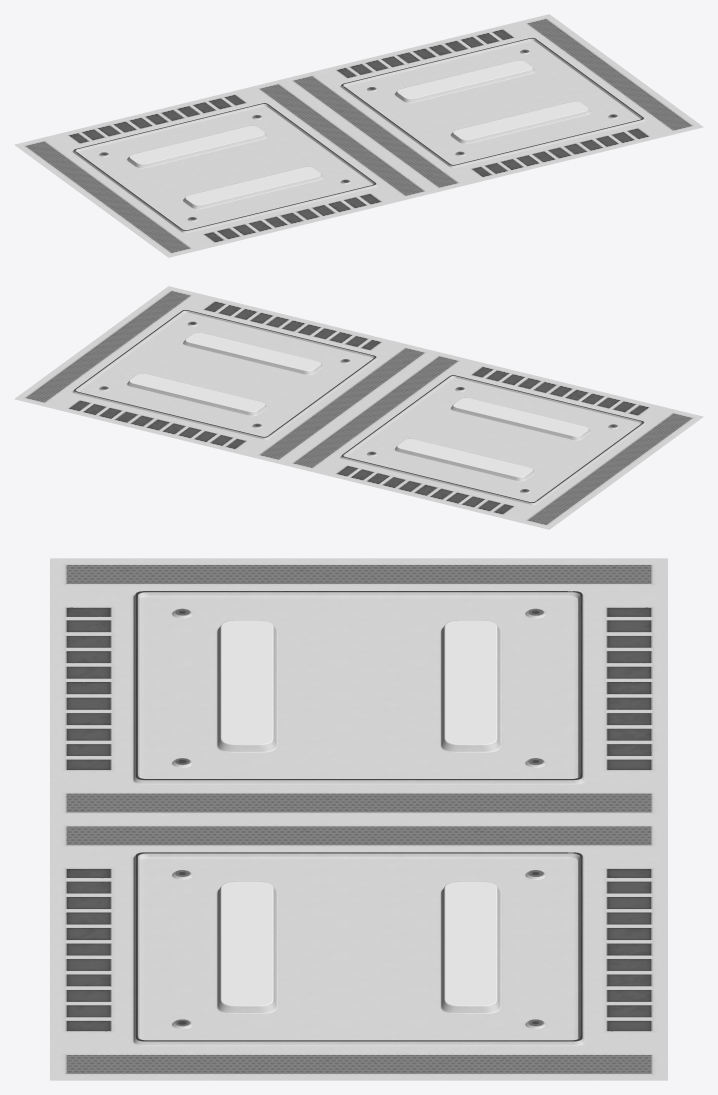
Rendered from SM_MCeiling03-2-350x700-1.FBX.
3 views of the same model, one above another, from view 1: azimuth 30°, elevation 25°; view 2: azimuth 150°, elevation 25°; view 3: azimuth 270°, elevation 25° (orthographic). The views are drawn at different scales.
Parts seen in each view (by area): view 1: SM_MCeiling03-2-350x700-1; view 2: SM_MCeiling03-2-350x700-1; view 3: SM_MCeiling03-2-350x700-1.
Part boxes in pixels (bbox=[...]): SM_MCeiling03-2-350x700-1: bbox=[14, 14, 703, 257]; SM_MCeiling03-2-350x700-1: bbox=[14, 286, 703, 529]; SM_MCeiling03-2-350x700-1: bbox=[50, 558, 667, 1080].
Size of what is drawn, in the model's own units: 700 by 350 by 4.
